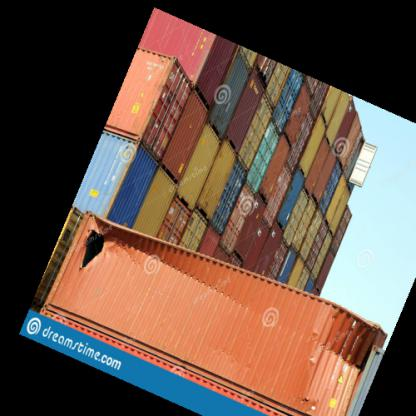Damage: (76, 221, 112, 278)
